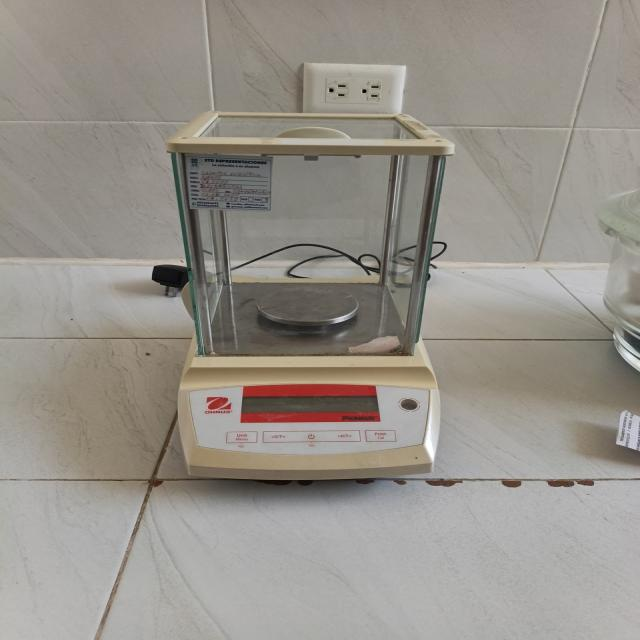Balanza Analitica de la Serie Ohaus Pioneer: (151, 112, 453, 480)
